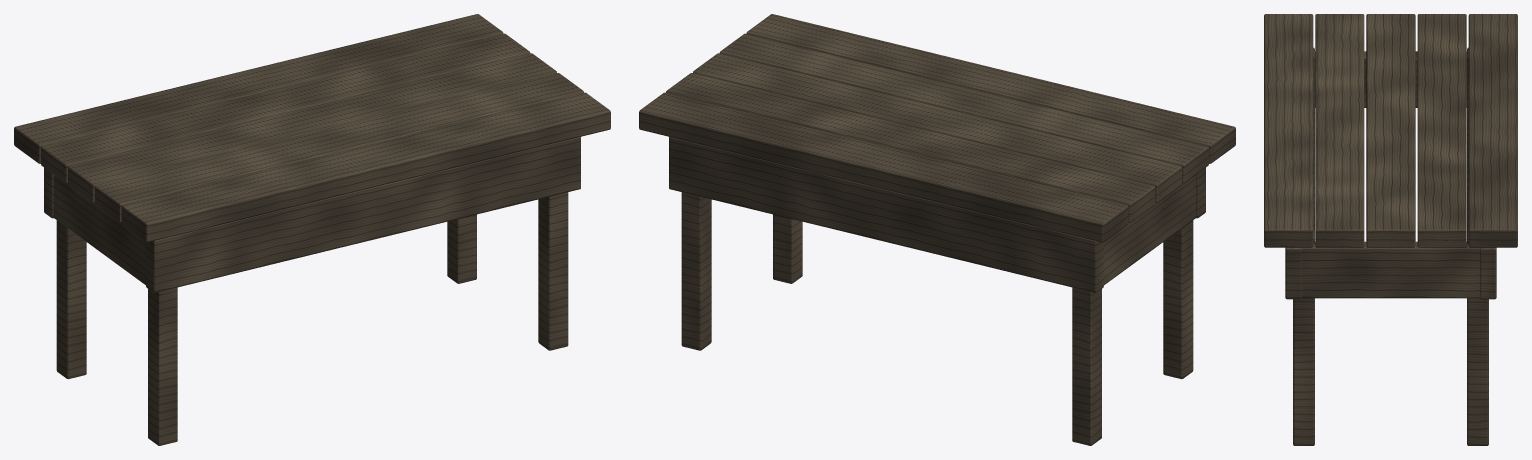
The model's file is Table.fbx.
3 renders of one model, left to right at view 1: azimuth 30°, elevation 25°; view 2: azimuth 150°, elevation 25°; view 3: azimuth 270°, elevation 25°, orthographic. The views are drawn at different scales.
Visible parts, largest first — view 1: Table; view 2: Table; view 3: Table.
Part boxes in pixels (left/top/right/bottom): Table: left=14, top=14, right=610, bottom=445; Table: left=639, top=14, right=1235, bottom=445; Table: left=1264, top=14, right=1517, bottom=445.
Size of the model in its own units: 200 by 99 by 99.2.
